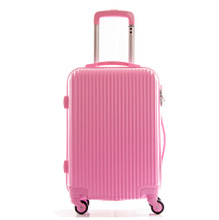luggage: (63, 11, 168, 215)
